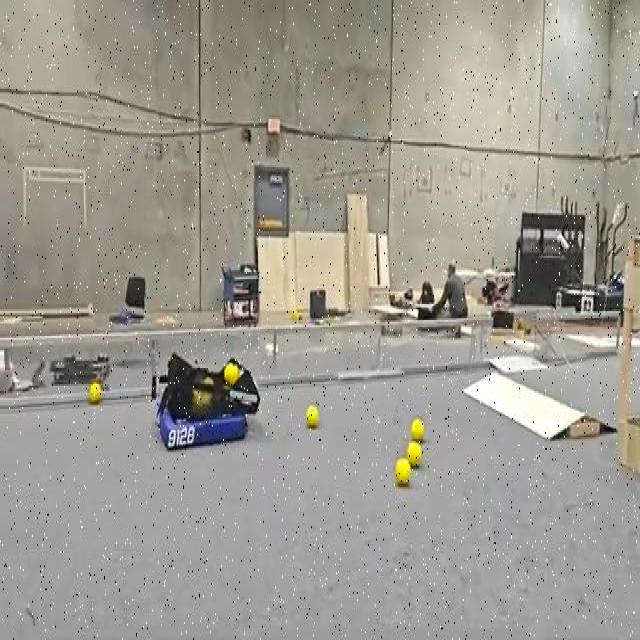Fuel: (395, 458, 411, 486), (223, 362, 240, 386), (395, 459, 410, 485), (406, 441, 421, 466), (407, 441, 421, 467), (410, 419, 425, 442), (410, 418, 424, 441), (305, 405, 319, 428), (88, 382, 102, 404), (88, 381, 101, 404), (306, 406, 319, 428), (291, 309, 302, 322)
